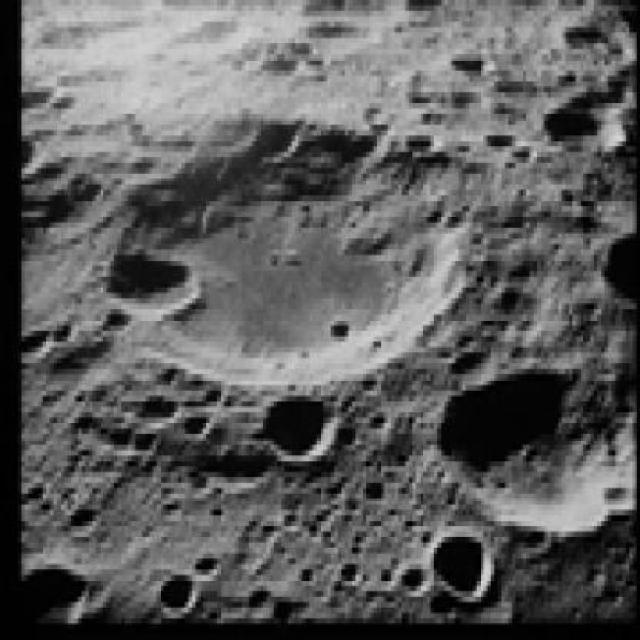crater: (121, 132, 474, 386), (437, 368, 635, 532), (112, 244, 196, 310), (265, 397, 332, 457), (432, 531, 491, 597), (160, 574, 197, 614), (189, 556, 223, 578)
